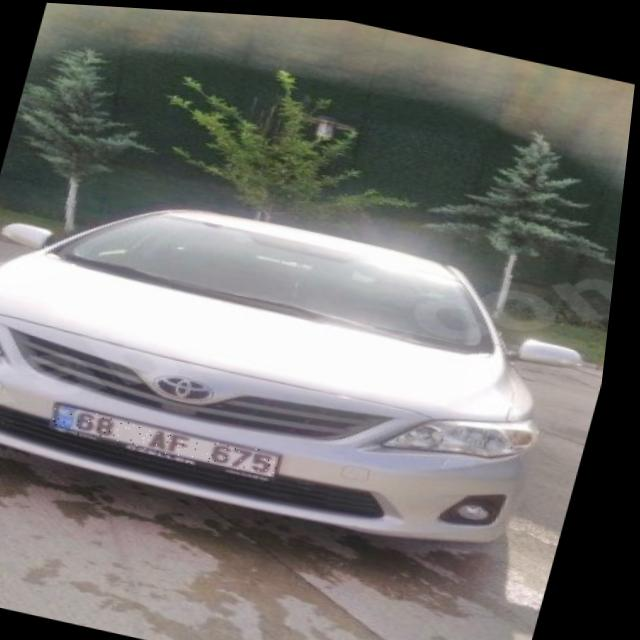license_plate: (55, 403, 293, 474)
